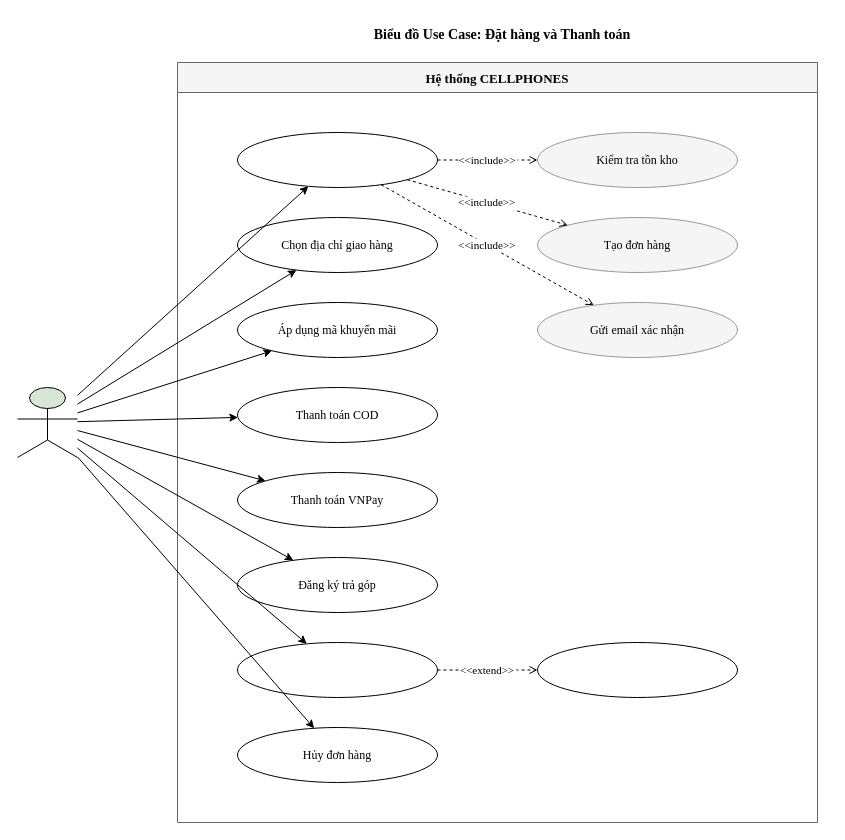
Image size: 845x840. Some labels were removed from this diagram. Each missing label, with the centre of its shape:
Customer: the point at 47,422
Theo dõi đơn hàng: the point at 337,670
Xem hóa đơn: the point at 637,670
Đặt hàng (Checkout): the point at 337,160
